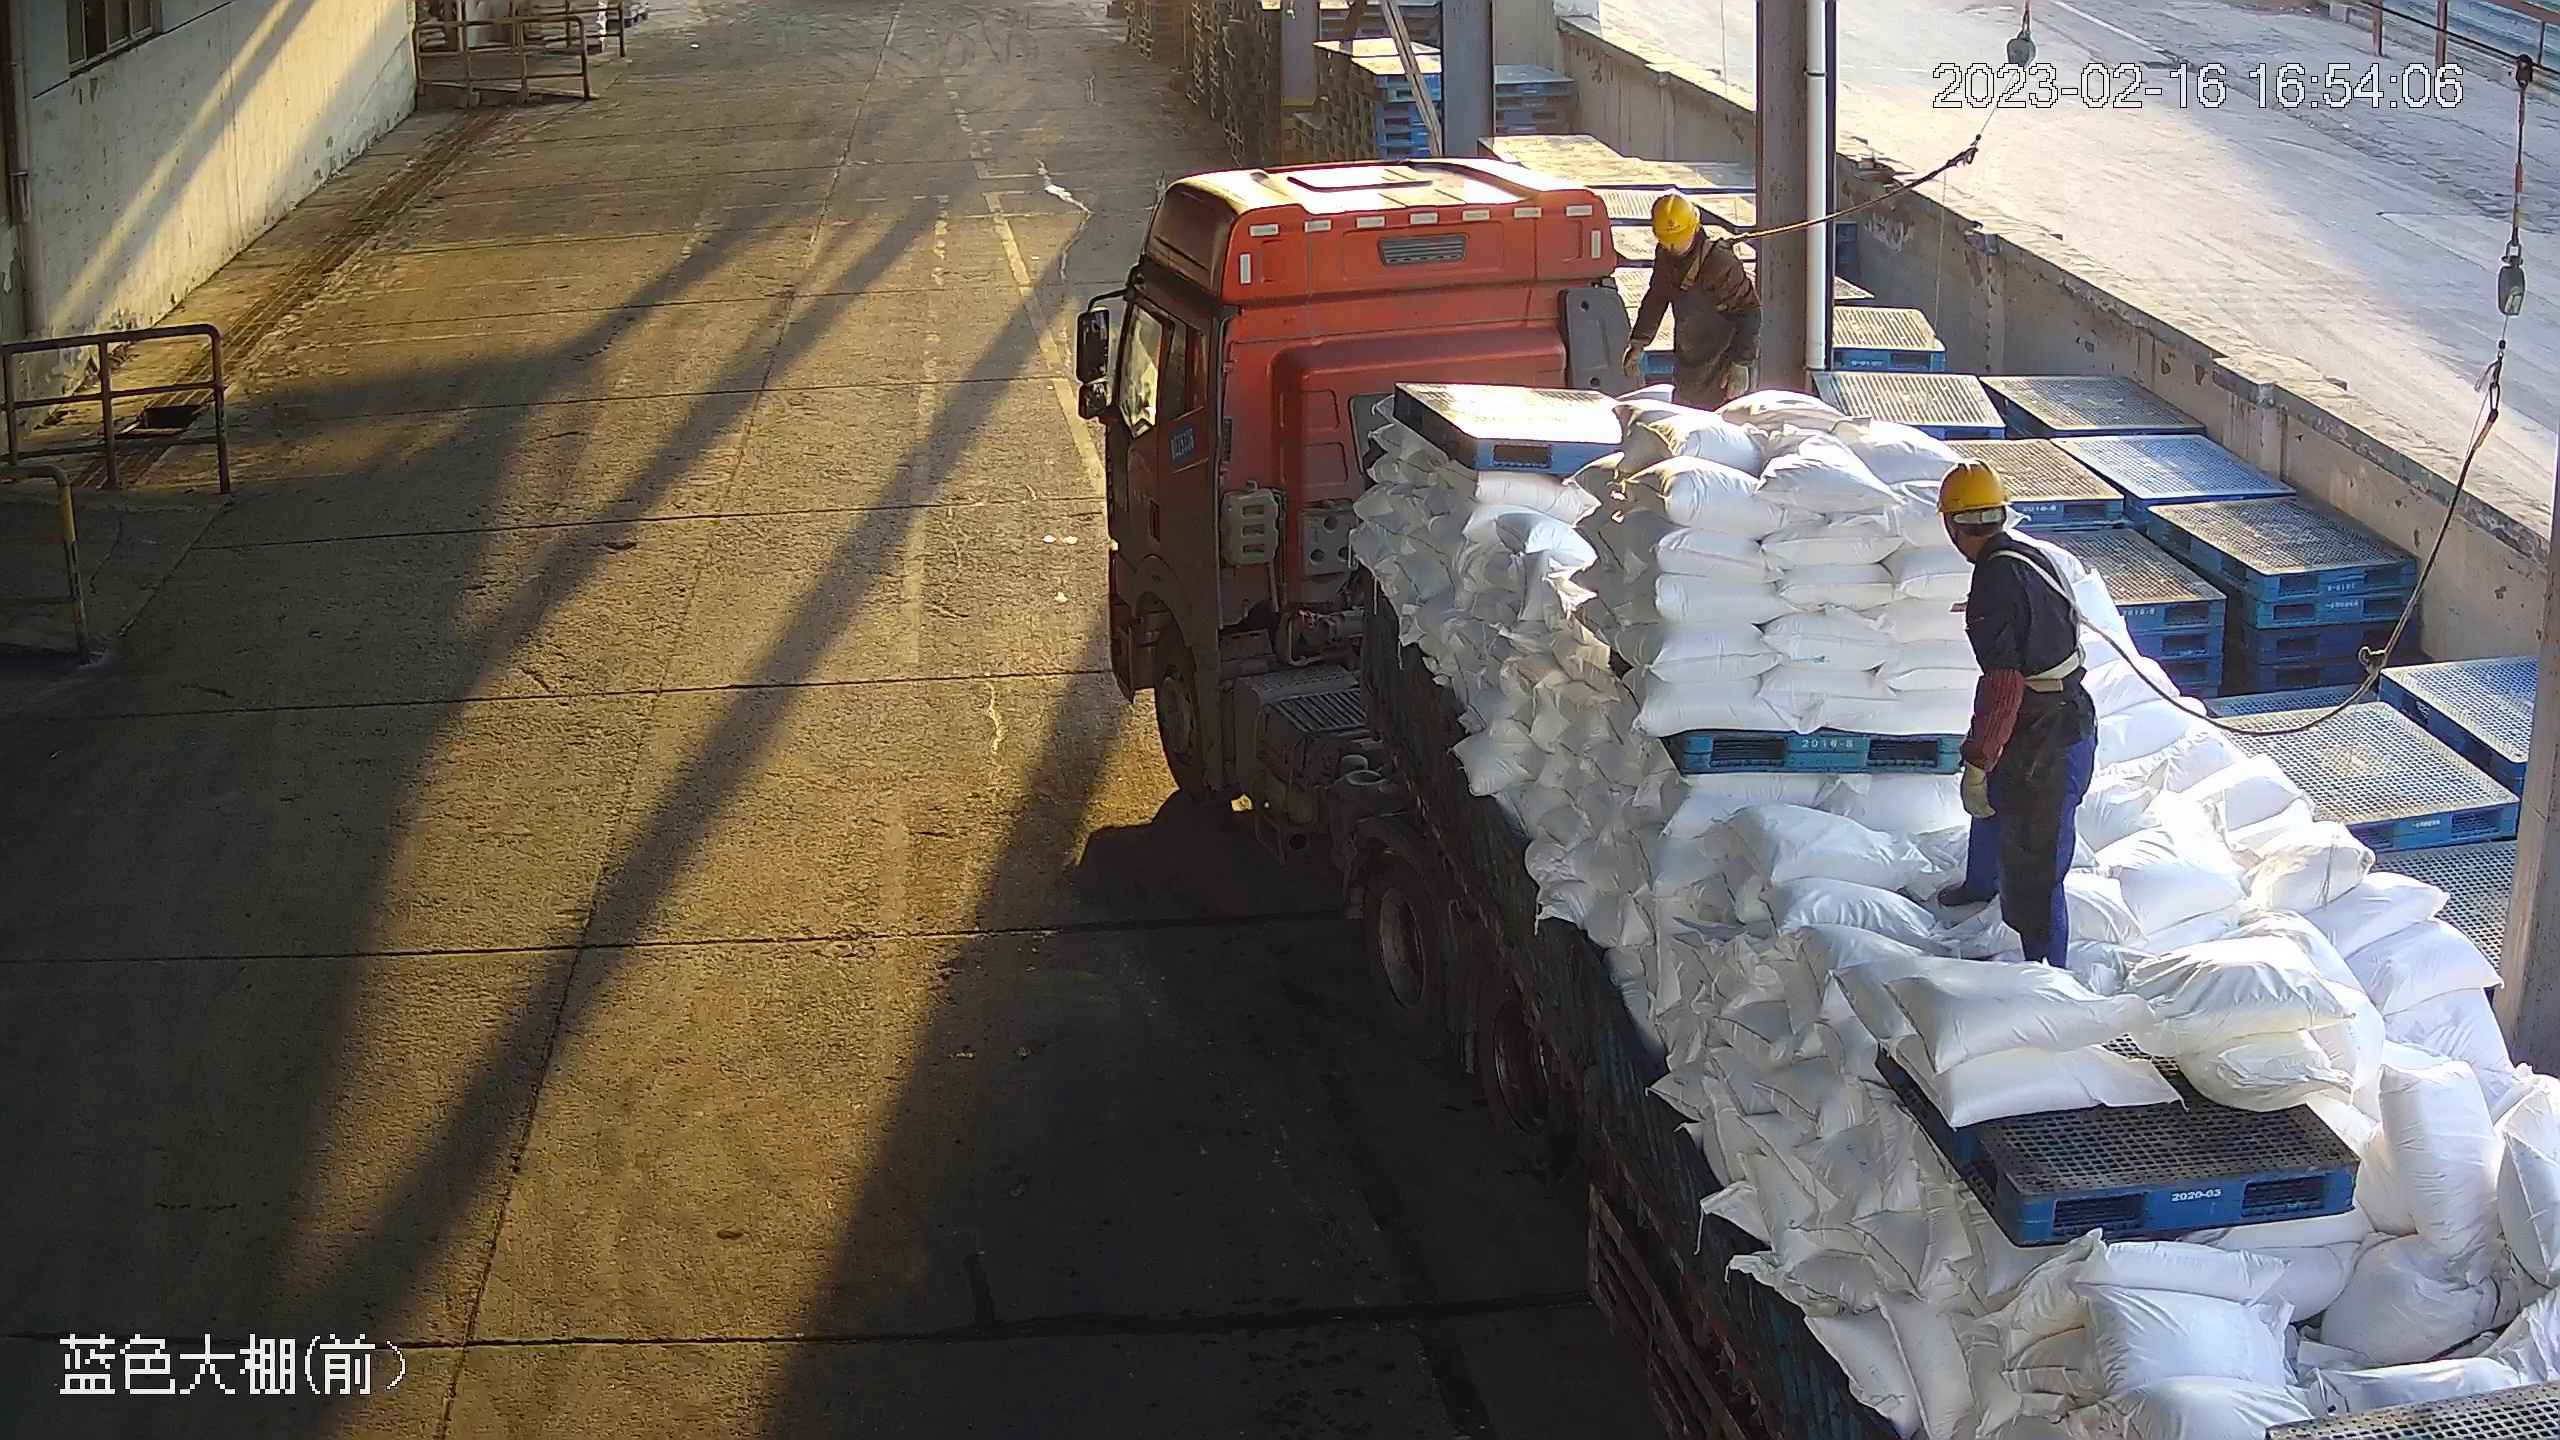belt: (1979, 540, 2102, 698), (1659, 233, 1752, 298)
head: (1935, 455, 2077, 609), (1649, 193, 1748, 277)
helmet: (1935, 457, 2011, 516), (1650, 193, 1698, 244)
people: (1933, 456, 2099, 971), (1622, 193, 1764, 413)
truck: (1094, 152, 2560, 1440)
